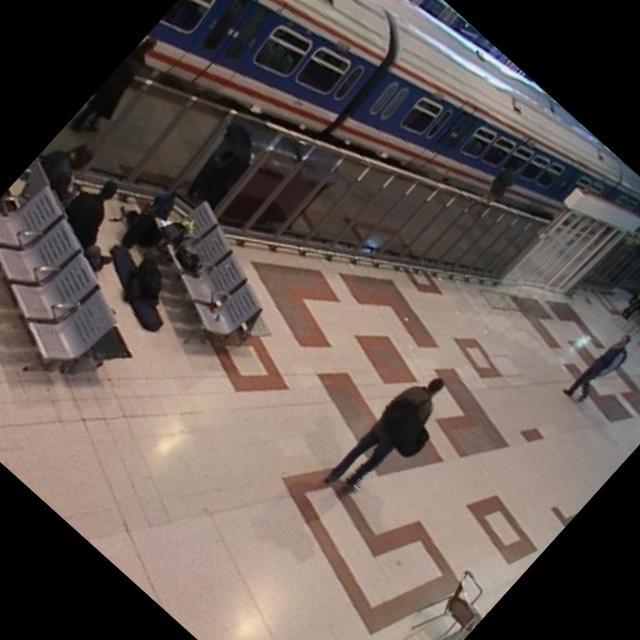person: (314, 358, 468, 520), (557, 322, 640, 414)
